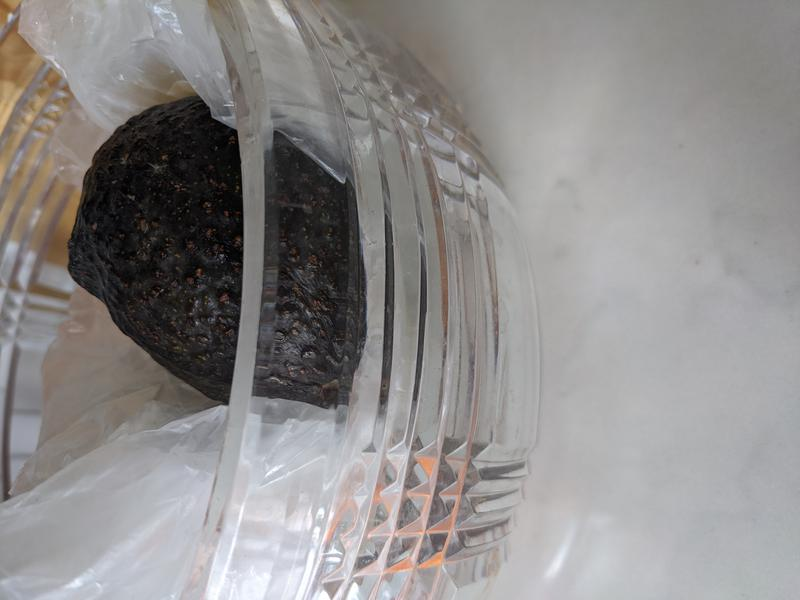avocado: (68, 95, 426, 414)
